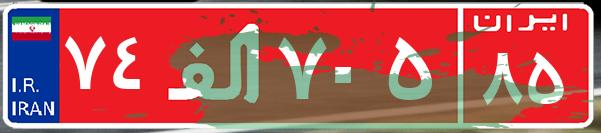0: (330, 28, 385, 110)
4: (110, 28, 158, 105)
5: (385, 28, 445, 110), (525, 38, 570, 115)
7: (273, 28, 330, 110), (57, 26, 110, 107)
8: (475, 38, 525, 113)
الف: (158, 15, 273, 115)
